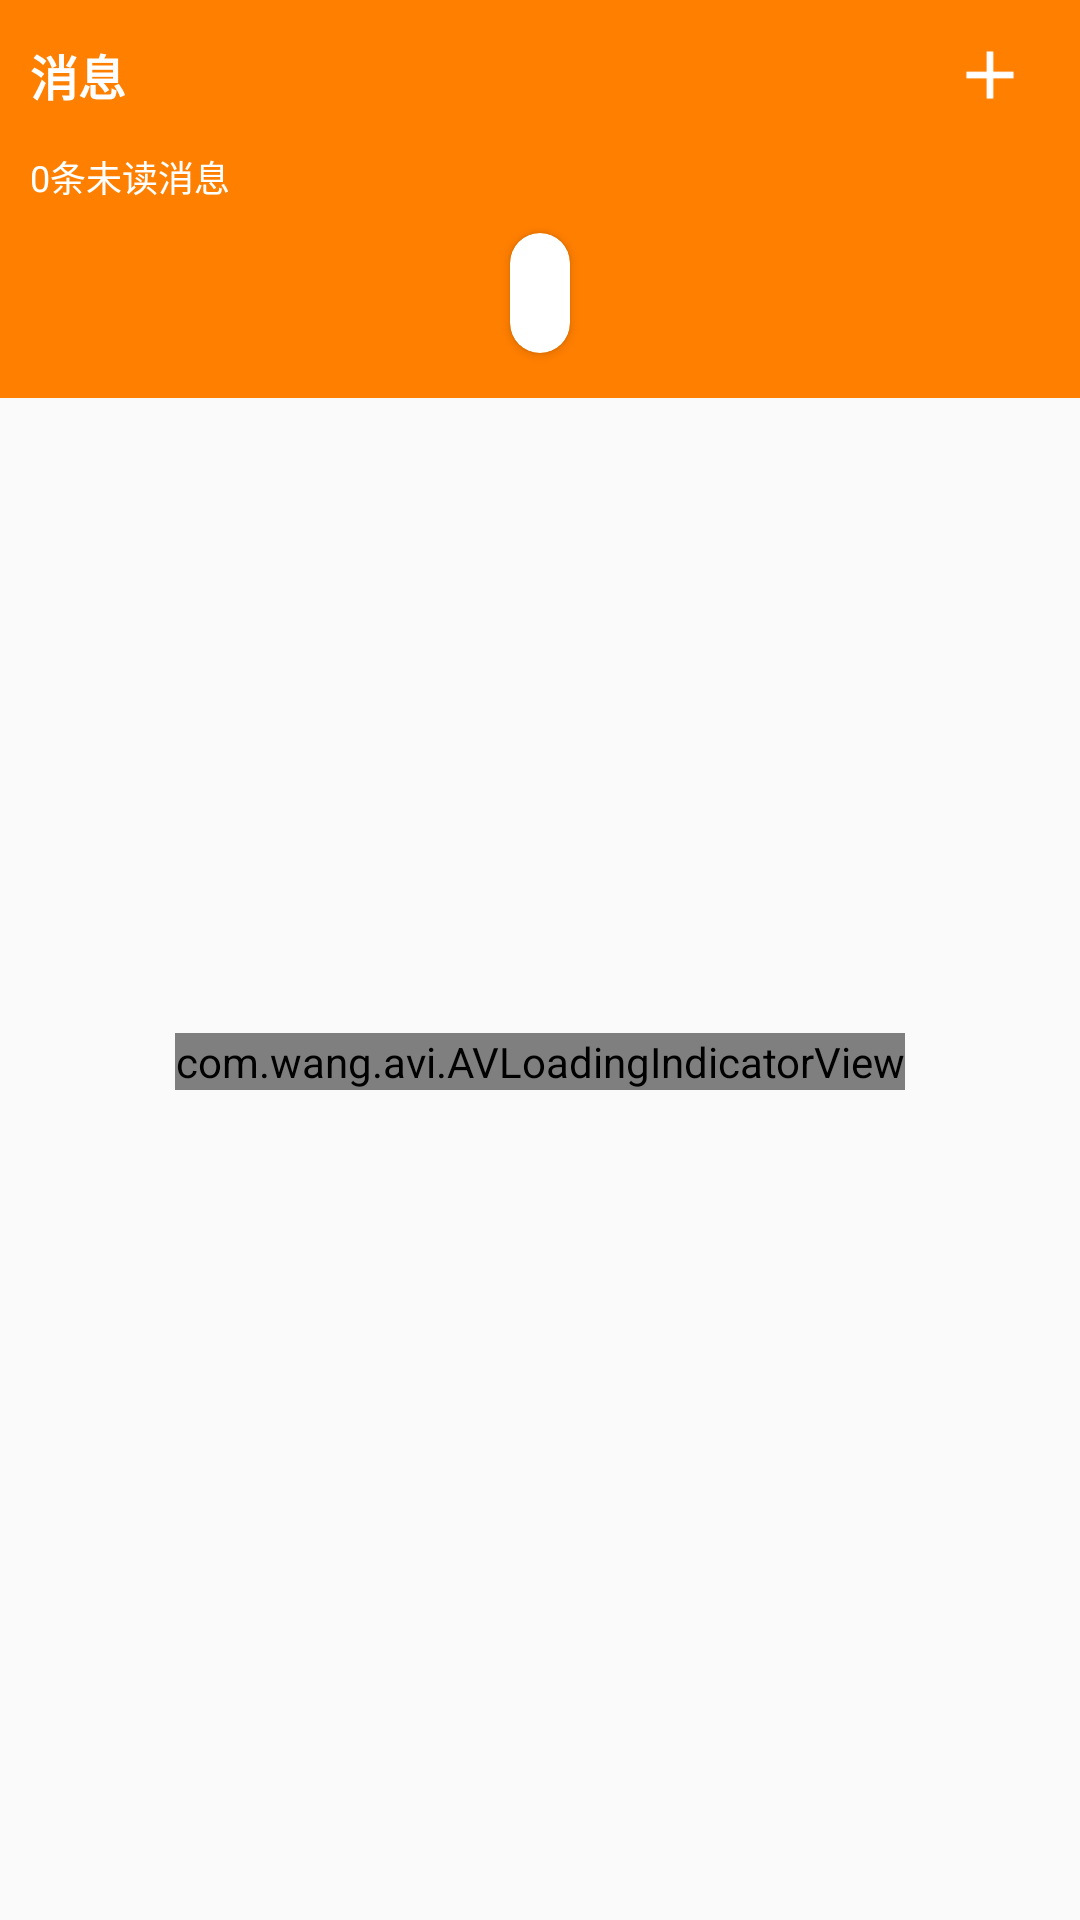

Icon bounding boxes for this 1080px×1920px phone screenshot, format rect(x1, y1, x2, y2):
add: rect(966, 51, 1014, 99)
